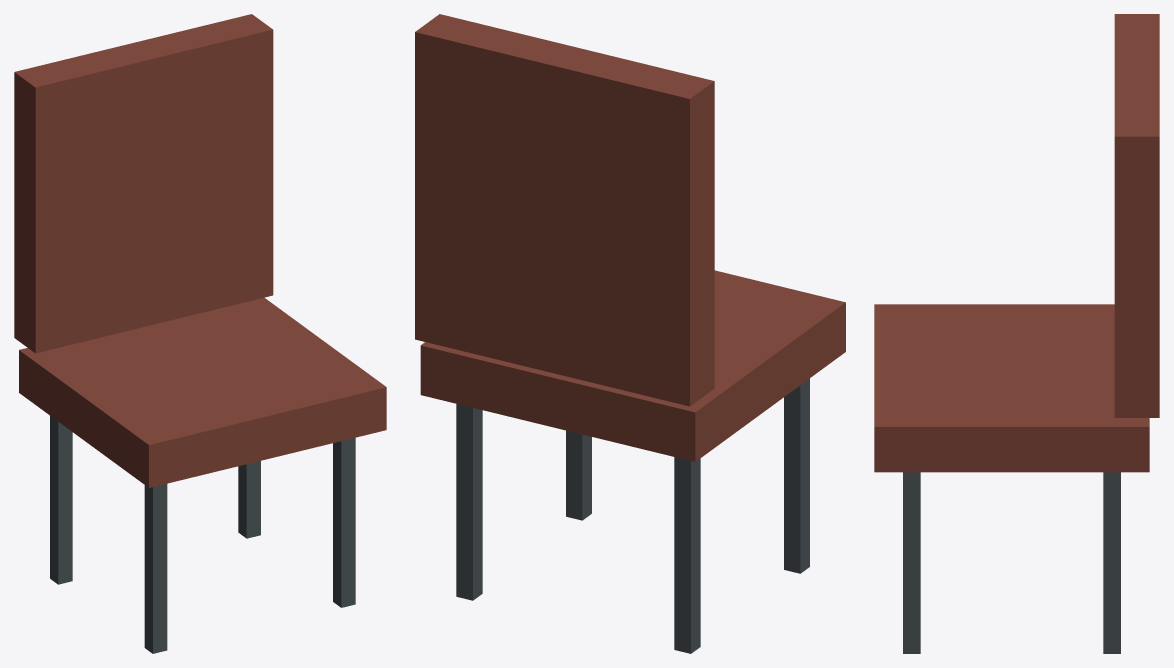
Rendered from chair.glb.
3 views of the same model, side by side, from view 1: azimuth 30°, elevation 25°; view 2: azimuth 150°, elevation 25°; view 3: azimuth 270°, elevation 25° (orthographic). The views are drawn at different scales.
Parts seen in each view (by area): view 1: chair_Leather, chair_Steel; view 2: chair_Leather, chair_Steel; view 3: chair_Leather, chair_Steel.
Part boxes in pixels (left/top/right/bottom): chair_Leather: left=14, top=14, right=386, bottom=487; chair_Steel: left=50, top=416, right=355, bottom=653; chair_Leather: left=415, top=14, right=845, bottom=461; chair_Steel: left=456, top=378, right=809, bottom=653; chair_Leather: left=874, top=14, right=1159, bottom=472; chair_Steel: left=903, top=472, right=1120, bottom=653.
Bounding box in the file's own units: 0.58 × 1.16 × 0.57.
